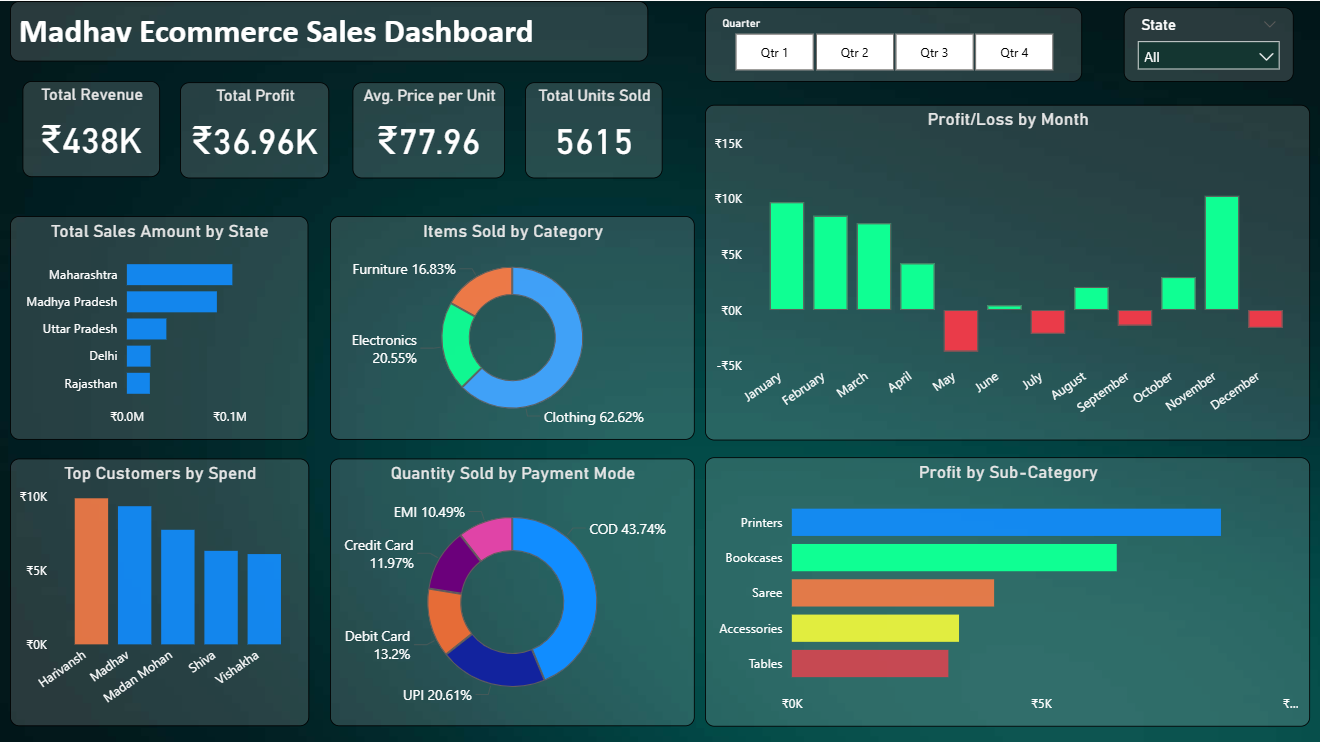

The dashboard page shown, as its layout file describes it:
{"tool":"powerbi","page":{"name":"Page 1","canvas":[1280,720],"ordinal":0},"visuals":[{"type":"textbox","box":[10,0,616,58],"z":0},{"type":"columnChart","title":"Profit/Loss by Month","fields":{"Category":["Orders.Order Date.Variation.Date Hierarchy.Month"],"Y":["Details.Profit"]},"box":[680,100,584,324],"z":1000},{"type":"barChart","title":"Profit by Sub-Category","fields":{"Category":["Details.Sub-Category"],"Y":["Details.Profit"]},"box":[680,440,584.3,260],"z":2000},{"type":"donutChart","title":"Items Sold by Category","fields":{"Category":["Details.Category"],"Y":["Details.Quantity"]},"box":[318.6,207.1,338.6,215.7],"z":3000},{"type":"donutChart","title":"Quantity Sold by Payment Mode","fields":{"Category":["Details.PaymentMode"],"Y":["Details.Quantity"]},"box":[318.6,441.4,338.6,258.6],"z":4000},{"type":"card","title":"Total Revenue","fields":{"Values":["Details.Amount"]},"box":[21.4,77.1,132.9,92.9],"z":5000},{"type":"card","title":"Total Profit","fields":{"Values":["Details.Profit"]},"box":[174.3,78.6,144.3,92.9],"z":6000},{"type":"card","title":"Total Units Sold","fields":{"Values":["Details.Quantity"]},"box":[507.1,78.6,132.9,92.9],"z":7000},{"type":"card","title":"Avg. Price per Unit","fields":{"Values":["Details.AvgSellingPrice"]},"box":[340,78.6,147.1,92.9],"z":8000},{"type":"barChart","title":"Total Sales Amount by State","fields":{"Y":["Details.Amount"],"Category":["Orders.State"]},"box":[10,208,288,216],"z":9000},{"type":"columnChart","title":"Top Customers by Spend","fields":{"Category":["Orders.CustomerName"],"Y":["Details.Amount"]},"box":[10,441.4,288.6,258.6],"z":10000},{"type":"slicer","fields":{"Values":["Orders.Order Date.Variation.Date Hierarchy.Quarter"]},"box":[680,6,364,72],"z":11000},{"type":"slicer","fields":{"Values":["Orders.State"]},"box":[1084,6,164,72],"z":12000}]}

Visuals, with their boxes in screenshot pixels (x1, y1, x2, y2), scaled from the page's 1280x720 canvas onto the 1320x742 screenshot:
textbox: select_region(10, 0, 646, 60)
"Profit/Loss by Month" columnChart: select_region(701, 103, 1304, 437)
"Profit by Sub-Category" barChart: select_region(701, 453, 1304, 721)
"Items Sold by Category" donutChart: select_region(329, 213, 678, 436)
"Quantity Sold by Payment Mode" donutChart: select_region(329, 455, 678, 721)
"Total Revenue" card: select_region(22, 79, 159, 175)
"Total Profit" card: select_region(180, 81, 329, 177)
"Total Units Sold" card: select_region(523, 81, 660, 177)
"Avg. Price per Unit" card: select_region(351, 81, 502, 177)
"Total Sales Amount by State" barChart: select_region(10, 214, 307, 437)
"Top Customers by Spend" columnChart: select_region(10, 455, 308, 721)
slicer - Orders.Order Date.Variation.Date Hierarchy.Quarter: select_region(701, 6, 1077, 80)
slicer - Orders.State: select_region(1118, 6, 1287, 80)
